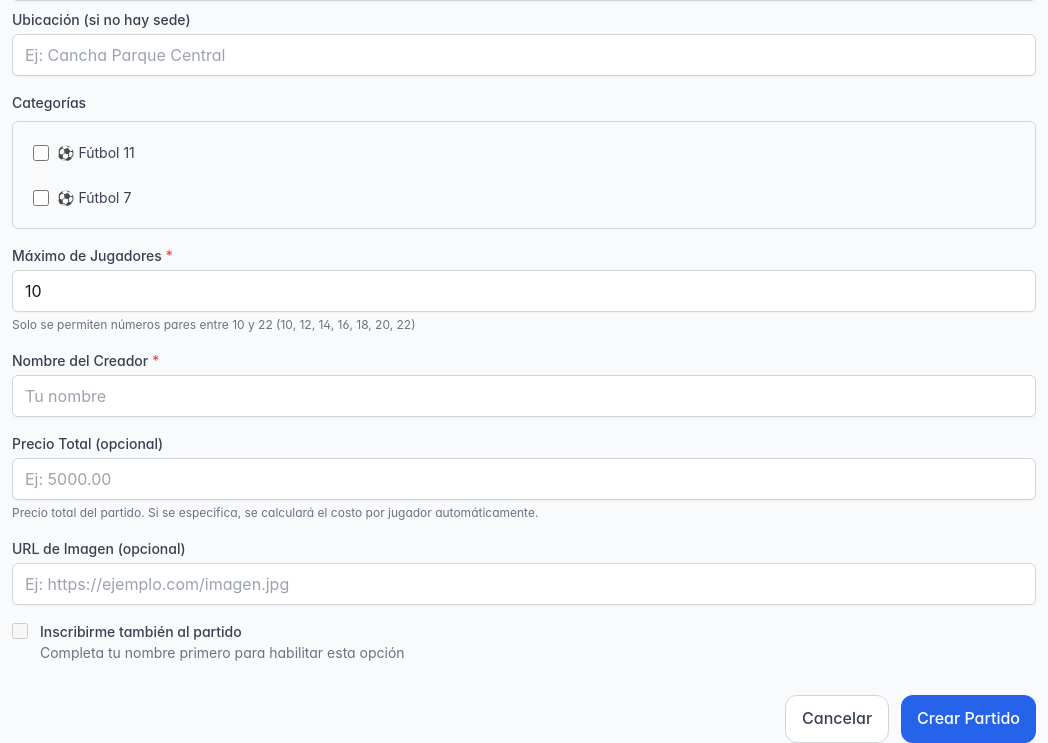
Scenario: PartidoForm › validates required fields
(page scrolled)
Click the button "Crear Partido" at (969, 719), box [901,695,1036,742]
(page scrolled)
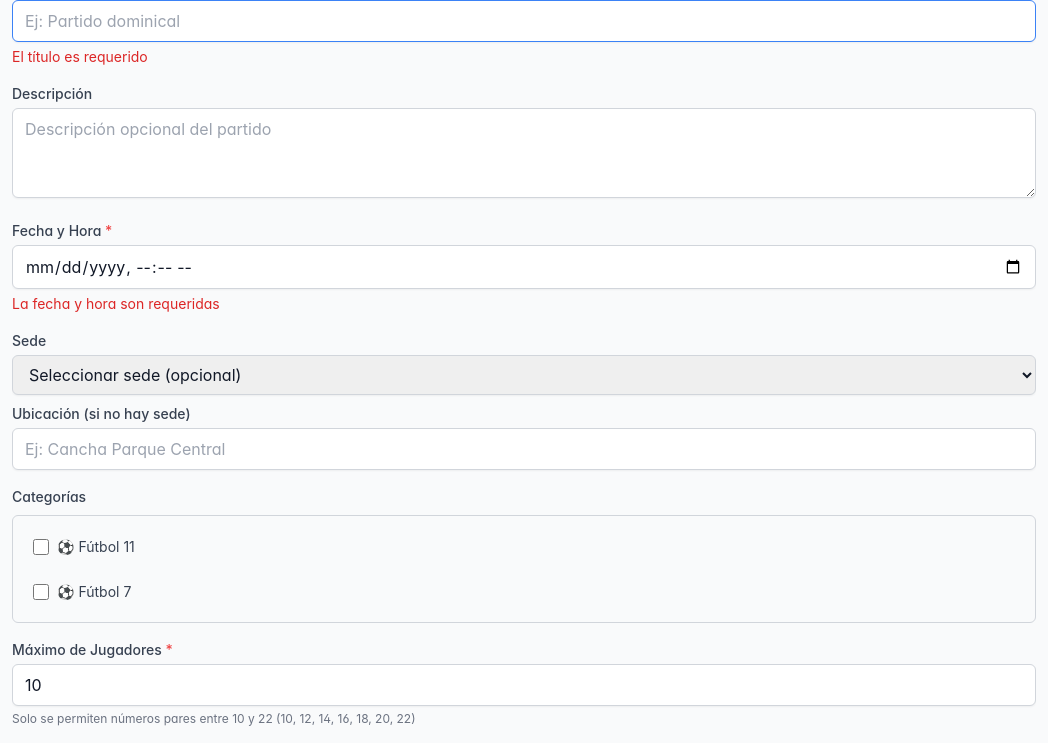
Expected: the text "El título es requerido" is shown, [12,48,148,65]
